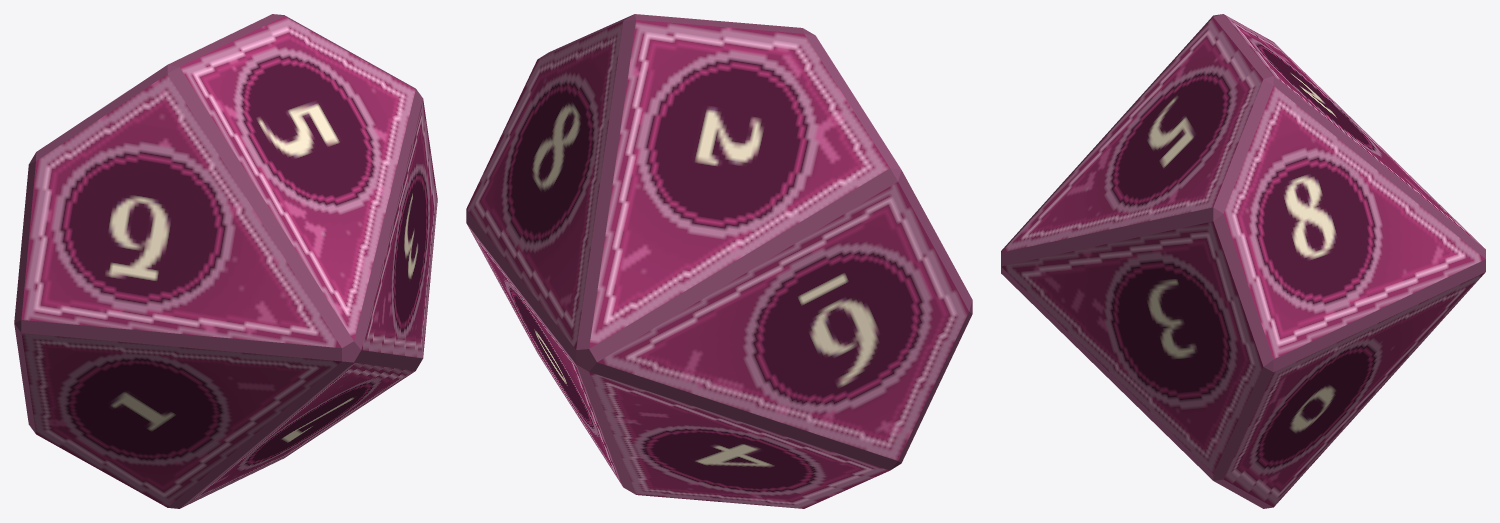
3 renders of one model, left to right at view 1: azimuth 30°, elevation 25°; view 2: azimuth 150°, elevation 25°; view 3: azimuth 270°, elevation 25°, orthographic. The views are drawn at different scales.
Size of the model in its own units: 188 by 179 by 183.
1 material, 1 textured.
